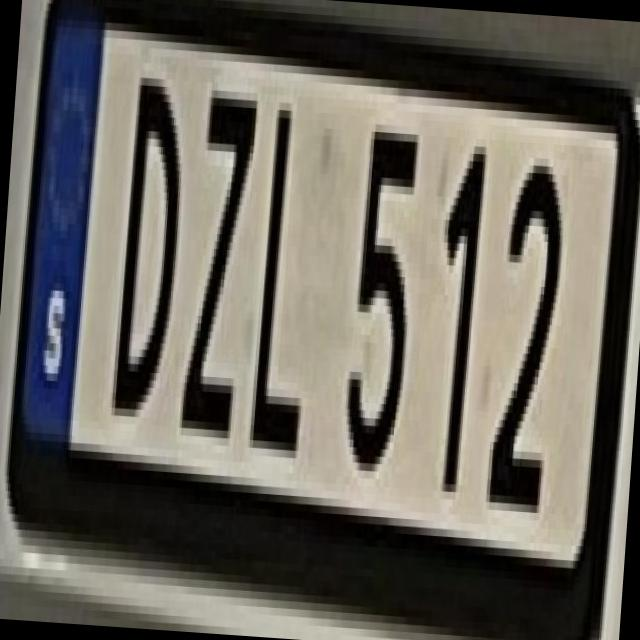1: (404, 104, 496, 486)
2: (476, 132, 576, 514)
5: (332, 107, 426, 473)
D: (98, 53, 194, 426)
L: (233, 70, 331, 458)
Z: (170, 66, 262, 439)
